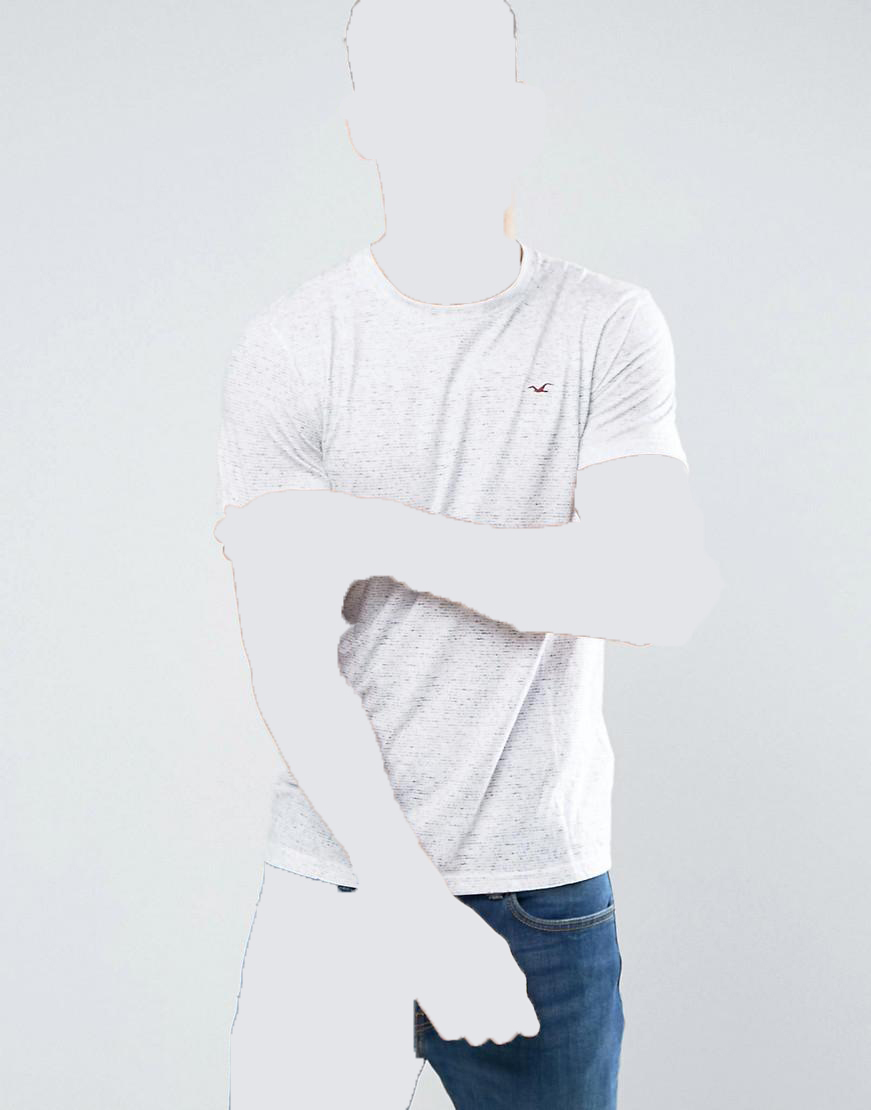teeshirt: (203, 239, 703, 891)
